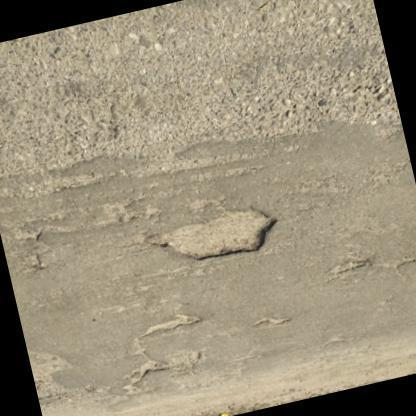pothole: (148, 202, 282, 264), (133, 310, 207, 378)
